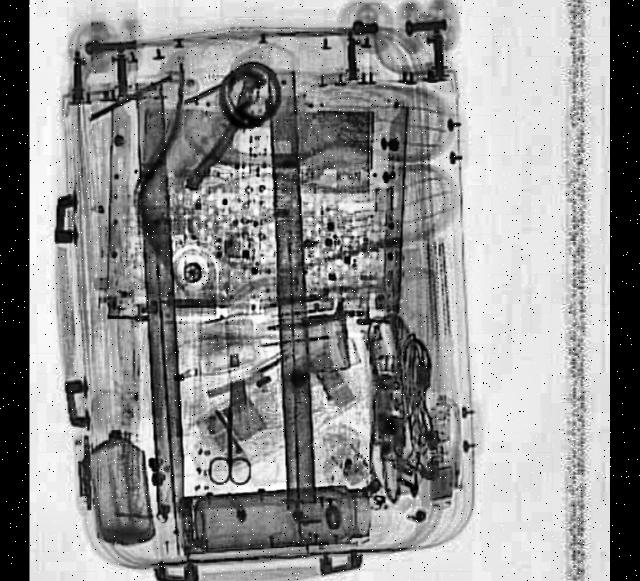Scissors: (208, 410, 251, 487)
